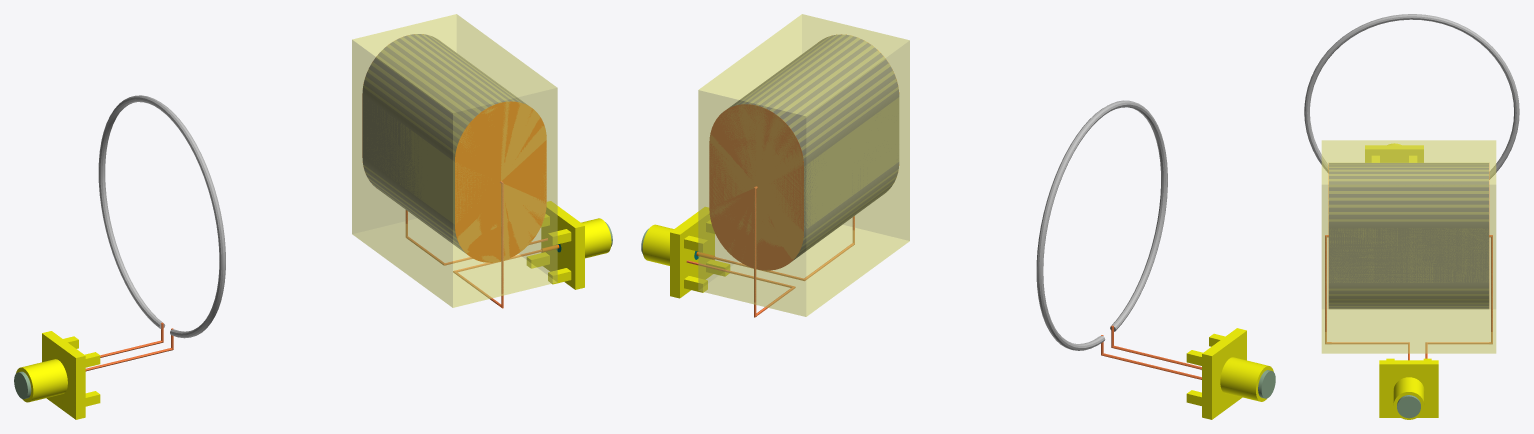
File: AcopMagnet.glb
3 views of the same model, side by side, from view 1: azimuth 30°, elevation 25°; view 2: azimuth 150°, elevation 25°; view 3: azimuth 270°, elevation 25° (orthographic). The views are drawn at different scales.
Visible parts, largest first — view 1: COMPOUND019, COMPOUND001, COMPOUND015, COMPOUND009, COMPOUND020, COMPOUND012; view 2: COMPOUND019, COMPOUND001, COMPOUND016, COMPOUND009, COMPOUND020, COMPOUND012; view 3: COMPOUND019, COMPOUND001, COMPOUND012, COMPOUND020, COMPOUND009, COMPOUND, COMPOUND003, COMPOUND002.
Part boxes in pixels (x1=…): COMPOUND019: x1=352, y1=14, x2=557, y2=307; COMPOUND001: x1=362, y1=34, x2=526, y2=253; COMPOUND015: x1=455, y1=101, x2=546, y2=262; COMPOUND009: x1=16, y1=331, x2=100, y2=419; COMPOUND020: x1=98, y1=95, x2=225, y2=338; COMPOUND012: x1=527, y1=201, x2=611, y2=289; COMPOUND019: x1=698, y1=14, x2=909, y2=316; COMPOUND001: x1=729, y1=34, x2=899, y2=260; COMPOUND016: x1=709, y1=104, x2=803, y2=270; COMPOUND009: x1=1186, y1=328, x2=1273, y2=419; COMPOUND020: x1=1036, y1=100, x2=1167, y2=350; COMPOUND012: x1=642, y1=207, x2=729, y2=298; COMPOUND019: x1=1321, y1=140, x2=1496, y2=353; COMPOUND001: x1=1329, y1=163, x2=1488, y2=308; COMPOUND012: x1=1379, y1=358, x2=1438, y2=419; COMPOUND020: x1=1304, y1=14, x2=1519, y2=179; COMPOUND009: x1=1365, y1=143, x2=1423, y2=162; COMPOUND: x1=1397, y1=395, x2=1420, y2=418; COMPOUND003: x1=1325, y1=235, x2=1331, y2=343; COMPOUND002: x1=1489, y1=235, x2=1492, y2=343.
Size of the model in its own units: 0.102 by 0.0441 by 0.037.
